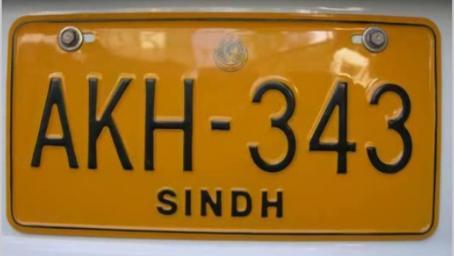number_plate: (8, 13, 440, 244)
